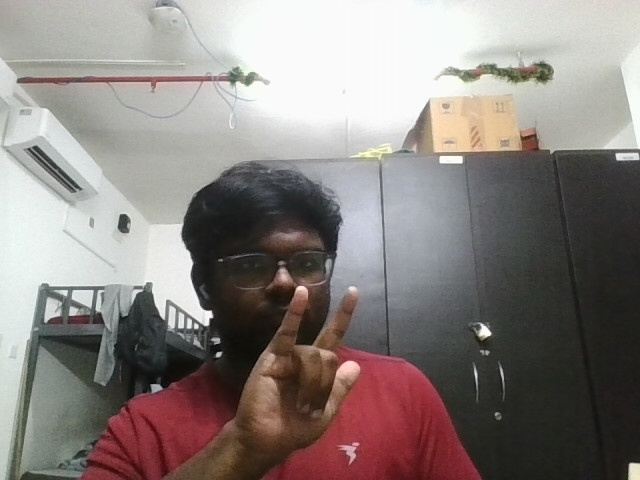I Love You: (224, 277, 391, 453)
